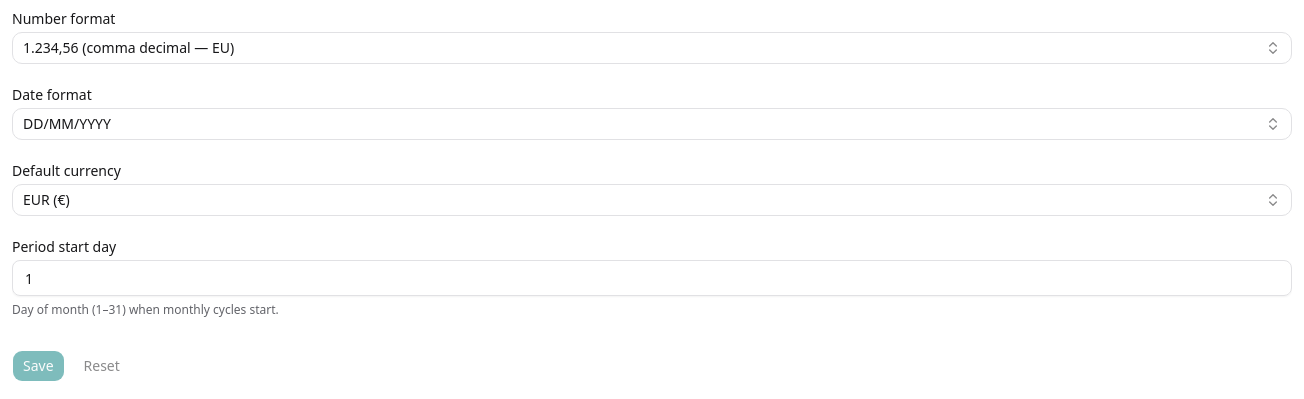
Test: SettingsForm › Save and Reset buttons enable when a field changes
This screenshot has width=1304, height=399.
Replace the text in the number field labelled "Period start day" with "15" at (652, 278), box [12,260,1292,296]
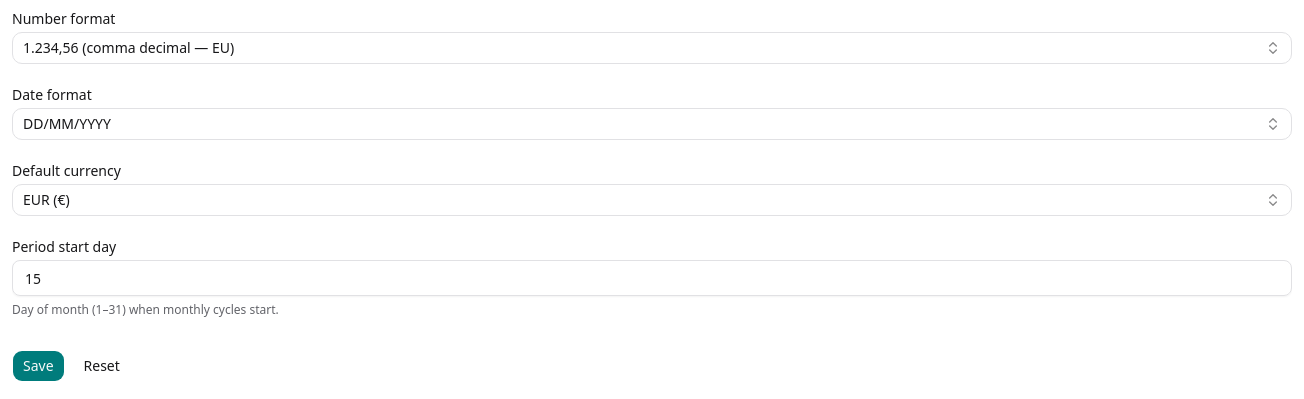
Check: the button "Save" is enabled, box [12,350,65,382]
Check: the button "Reset" is enabled, box [73,350,131,382]
